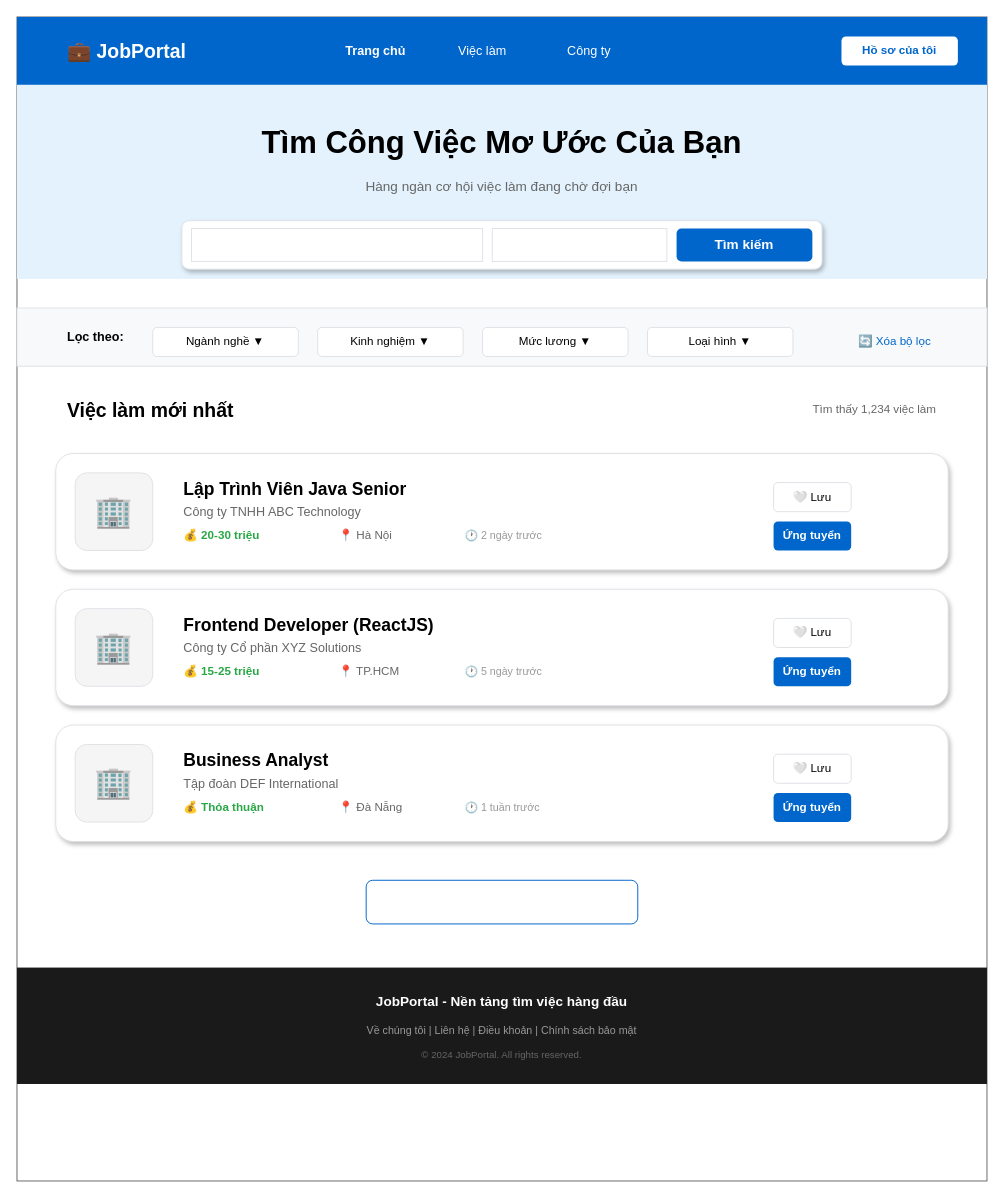
The diagram is 1004 pixels wide and 1198 high, and some of its shapes have lost their labels. Each missing label, with the centre of its shape:
"Xem thêm việc làm" belongs at (501,901).
"📍 Địa điểm" belongs at (579,244).
"🔍 Tìm theo từ khóa, vị trí..." belongs at (337,244).
